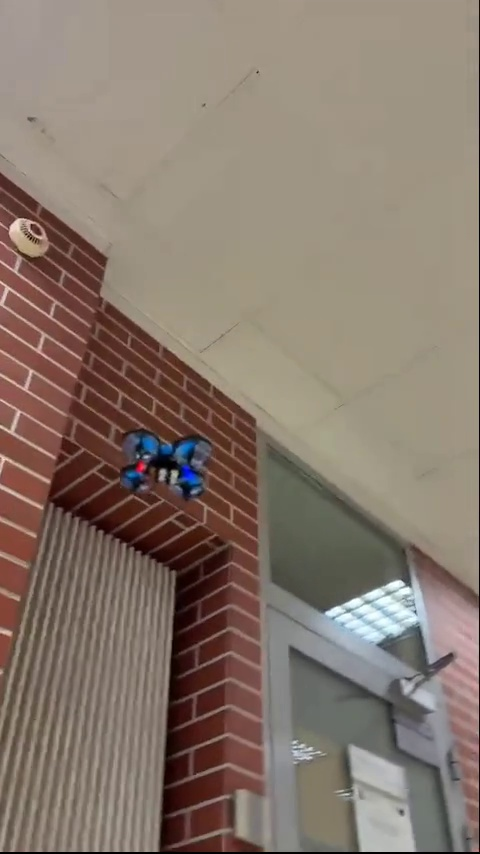drone: (122, 434, 210, 500)
